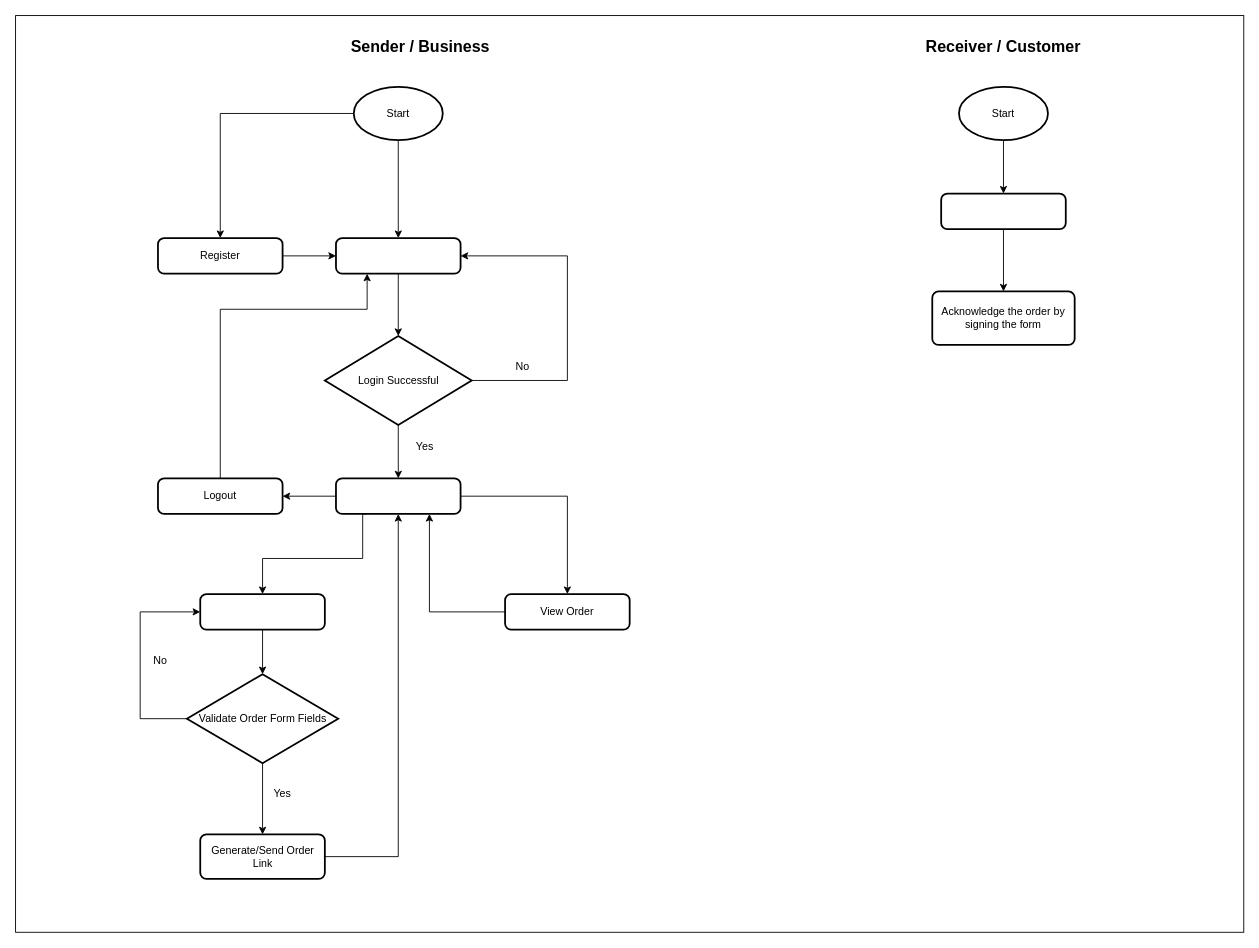
This 1259x948 diagram has some shape labels left out. Each missing label, with the box of its shape:
Add Order: (199, 593, 325, 630)
Dashboard: (335, 477, 461, 514)
Login: (335, 237, 461, 274)
Receiver Order Form: (940, 192, 1066, 230)
